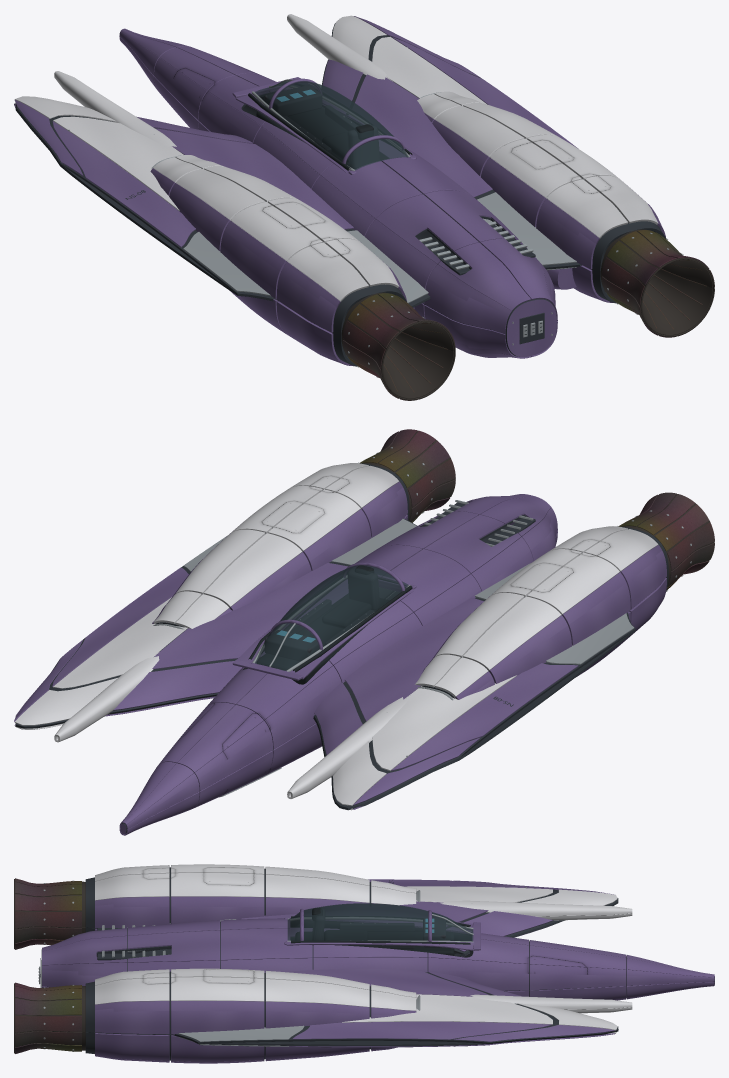
The picture shows the model from 3 angles, top to bottom: view 1: azimuth 30°, elevation 25°; view 2: azimuth 150°, elevation 25°; view 3: azimuth 270°, elevation 25°; orthographic projection. The views are drawn at different scales.
Parts seen in each view (by area): view 1: Aft pressure bulkhead, Fitted lifting skin.003, Fuselage fitted skin 00.0, Swept inlet guide vane, Aft avionics recess, Formed heat alloy nozzle petal, Sealed avionics connector, Thin laminated canopy glazing, Connector protected contact, Pressure hull substrate; view 2: Aft pressure bulkhead, Fitted lifting skin.003, Fuselage fitted skin 00.0, Formed heat alloy nozzle petal, Aft avionics recess, Thin laminated canopy glazing, Sealed avionics connector, Connector protected contact, Swept inlet guide vane; view 3: Aft pressure bulkhead, Fitted lifting skin.003, Fuselage fitted skin 00.0, Formed heat alloy nozzle petal, Aft avionics recess, Thin laminated canopy glazing, Sealed avionics connector, Connector protected contact, Swept inlet guide vane, Pressure hull substrate.
Part boxes in pixels (left/top/right/bottom): Aft pressure bulkhead: left=14, top=16, right=666, bottom=366; Fitted lifting skin.003: left=14, top=14, right=658, bottom=301; Fuselage fitted skin 00.0: left=198, top=73, right=557, bottom=333; Swept inlet guide vane: left=341, top=229, right=714, bottom=400; Aft avionics recess: left=15, top=23, right=665, bottom=366; Formed heat alloy nozzle petal: left=342, top=230, right=714, bottom=400; Sealed avionics connector: left=68, top=47, right=683, bottom=377; Thin laminated canopy glazing: left=255, top=81, right=408, bottom=170; Connector protected contact: left=248, top=93, right=541, bottom=334; Pressure hull substrate: left=241, top=90, right=554, bottom=356; Aft pressure bulkhead: left=14, top=481, right=666, bottom=835; Fitted lifting skin.003: left=14, top=463, right=658, bottom=810; Fuselage fitted skin 00.0: left=205, top=494, right=557, bottom=749; Formed heat alloy nozzle petal: left=359, top=429, right=714, bottom=590; Aft avionics recess: left=15, top=463, right=668, bottom=810; Thin laminated canopy glazing: left=255, top=565, right=408, bottom=670; Sealed avionics connector: left=68, top=447, right=691, bottom=797; Connector protected contact: left=248, top=565, right=412, bottom=684; Swept inlet guide vane: left=365, top=430, right=714, bottom=584; Aft pressure bulkhead: left=42, top=879, right=714, bottom=1063; Fitted lifting skin.003: left=95, top=864, right=632, bottom=1034; Fuselage fitted skin 00.0: left=42, top=918, right=528, bottom=990; Formed heat alloy nozzle petal: left=15, top=878, right=81, bottom=1053; Aft avionics recess: left=40, top=867, right=618, bottom=1060; Thin laminated canopy glazing: left=287, top=903, right=473, bottom=941; Sealed avionics connector: left=39, top=880, right=526, bottom=1051; Connector protected contact: left=38, top=908, right=470, bottom=981; Swept inlet guide vane: left=14, top=879, right=85, bottom=1053; Pressure hull substrate: left=41, top=920, right=714, bottom=997.
Bounding box in the file's own units: 2.13 × 0.7099 × 3.92.
9 materials, 3 textured.
